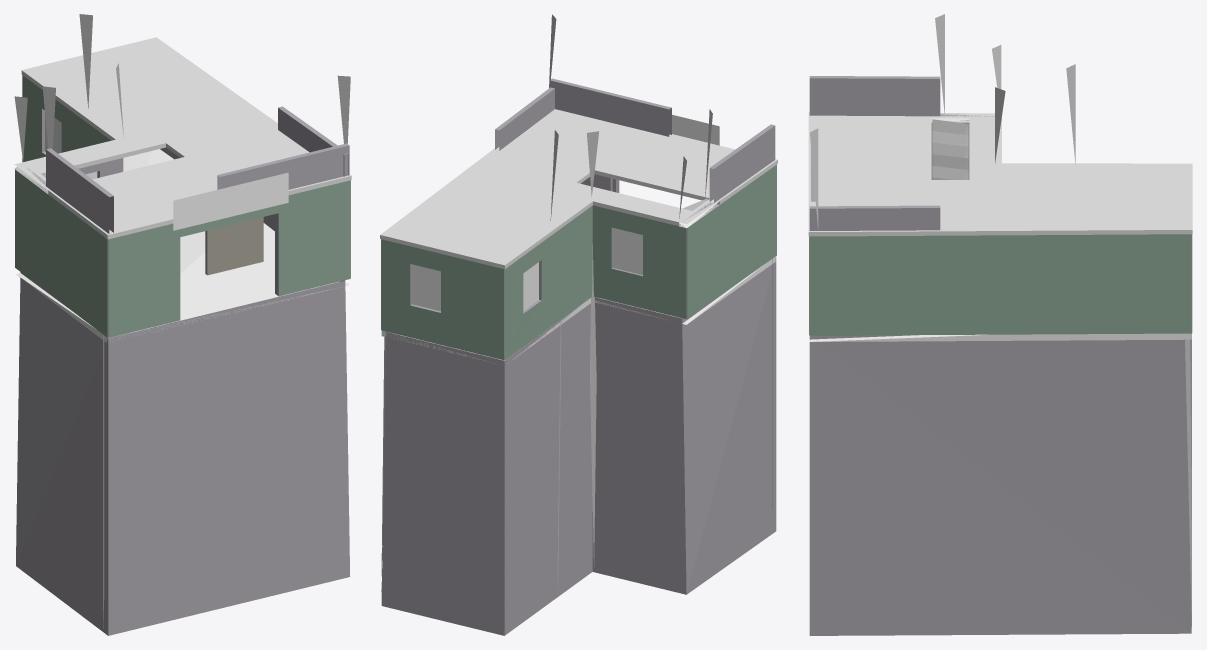
3 views of the same model, side by side, from view 1: azimuth 30°, elevation 25°; view 2: azimuth 150°, elevation 25°; view 3: azimuth 270°, elevation 25° (orthographic). The views are drawn at different scales.
Visible parts, largest first — view 1: F_22; view 2: F_22; view 3: F_22.
Boxes of the visible parts, x1,y1,x2,y2 form: F_22: (14, 14, 351, 635); F_22: (380, 14, 777, 635); F_22: (808, 14, 1192, 635).
Size of the model in its own units: 7.06 by 13.83 by 9.62.
